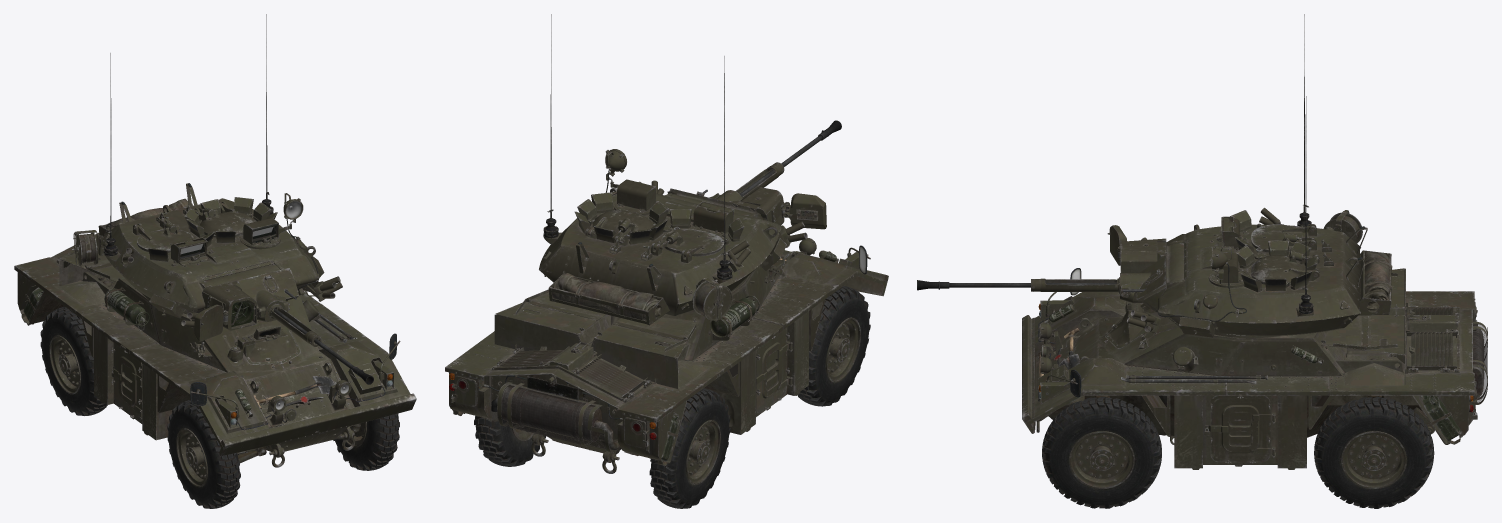
Rendered from fv721_fox_war_thunder.glb.
The picture shows the model from 3 angles, left to right: view 1: azimuth 30°, elevation 25°; view 2: azimuth 150°, elevation 25°; view 3: azimuth 270°, elevation 25°; orthographic projection. The views are drawn at different scales.
Parts seen in each view (by area): view 1: Object_13, Object_26, Object_14, Object_9, Object_19, Object_18, Object_20, Object_22, Object_27, Object_23, Object_16, Object_21 (+3 smaller); view 2: Object_13, Object_26, Object_19, Object_22, Object_27, Object_20, Object_14, Object_18, Object_9, Object_6, Object_28, Object_17 (+6 smaller); view 3: Object_13, Object_26, Object_16, Object_17, Object_14, Object_20, Object_9, Object_27, Object_23, Object_19, Object_22, Object_28 (+3 smaller).
Boxes of the visible parts, x1,y1,x2,y2 form: Object_13: [14, 232, 411, 451]; Object_26: [98, 192, 342, 327]; Object_14: [96, 279, 416, 457]; Object_9: [194, 264, 373, 384]; Object_19: [40, 306, 382, 452]; Object_18: [167, 400, 240, 508]; Object_20: [94, 328, 347, 440]; Object_22: [23, 248, 392, 467]; Object_27: [72, 183, 324, 318]; Object_23: [227, 320, 300, 424]; Object_16: [333, 413, 399, 470]; Object_21: [104, 287, 400, 450]; Object_13: [445, 252, 874, 465]; Object_26: [539, 180, 807, 315]; Object_19: [494, 289, 730, 508]; Object_22: [531, 238, 870, 473]; Object_27: [548, 149, 786, 325]; Object_20: [711, 250, 838, 434]; Object_14: [451, 250, 888, 462]; Object_18: [797, 286, 870, 406]; Object_9: [667, 120, 841, 229]; Object_6: [501, 385, 605, 448]; Object_28: [588, 210, 724, 257]; Object_17: [474, 413, 545, 466]; Object_13: [1036, 291, 1487, 444]; Object_26: [1126, 204, 1360, 335]; Object_16: [1042, 396, 1161, 508]; Object_17: [1314, 396, 1434, 508]; Object_14: [1022, 292, 1477, 444]; Object_20: [1038, 304, 1306, 469]; Object_9: [917, 225, 1183, 312]; Object_27: [1179, 210, 1392, 337]; Object_23: [1038, 301, 1456, 372]; Object_19: [1038, 312, 1407, 392]; Object_22: [1038, 268, 1461, 441]; Object_28: [1251, 224, 1318, 284].
Bounding box in the file's own units: 2.34 × 4.08 × 5.14.
Materials: 17 (17 with a texture image).
